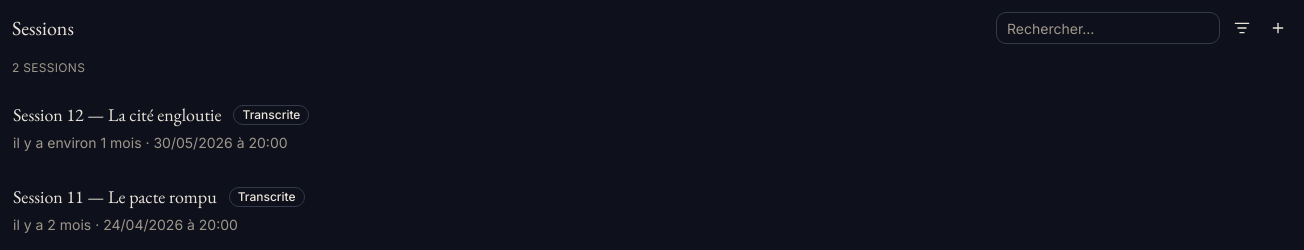
Test: <SessionLibrary> › the search box is always visible and the sort icon opens the criteria list directly
Expected: the heading "Sessions" is shown, [12,14,74,42]
Expected: the search field named "Rechercher une session" is shown, [996,12,1220,44]
Click the button named "Trier les sessions" at (1242, 28), box [1228,14,1256,42]
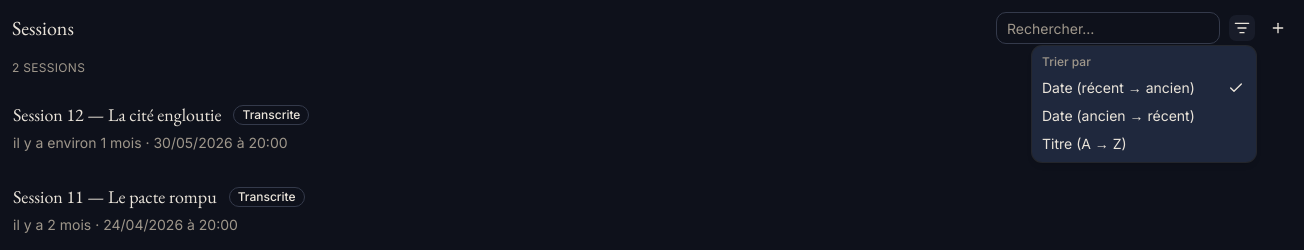
Now the menu item "Date (récent → ancien)" is shown, box [1036,74,1252,102]
